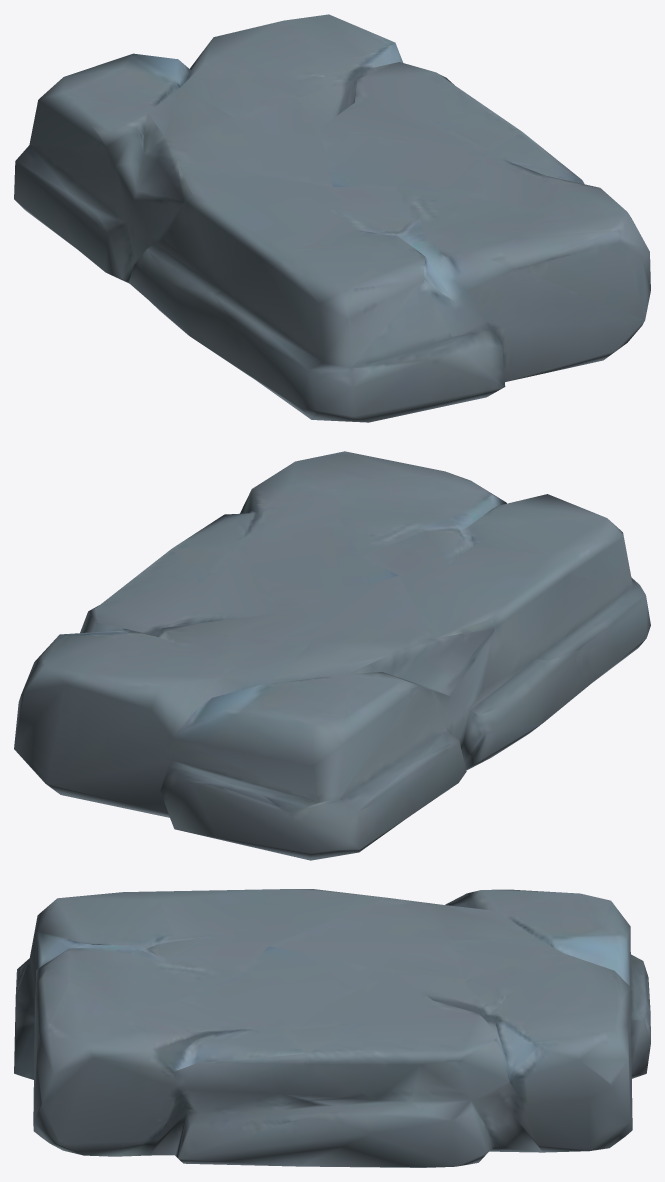
The model's file is rock-flat.glb.
3 renders of one model, top to bottom at view 1: azimuth 30°, elevation 25°; view 2: azimuth 150°, elevation 25°; view 3: azimuth 270°, elevation 25°, orthographic. The views are drawn at different scales.
Parts seen in each view (by area): view 1: tripo_node_cf9c675d-5cc2-4c2e-8a28-0cf6fe81c9c8; view 2: tripo_node_cf9c675d-5cc2-4c2e-8a28-0cf6fe81c9c8; view 3: tripo_node_cf9c675d-5cc2-4c2e-8a28-0cf6fe81c9c8.
Part boxes in pixels (left/top/right/bottom): tripo_node_cf9c675d-5cc2-4c2e-8a28-0cf6fe81c9c8: left=14, top=14, right=650, bottom=422; tripo_node_cf9c675d-5cc2-4c2e-8a28-0cf6fe81c9c8: left=14, top=451, right=650, bottom=860; tripo_node_cf9c675d-5cc2-4c2e-8a28-0cf6fe81c9c8: left=14, top=889, right=650, bottom=1167.
Bounding box in the file's own units: 0.6435 × 0.2149 × 1.
1 material, 1 textured.
